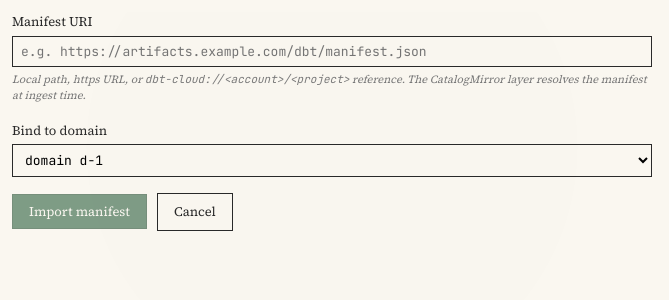
Test: DbtManifestImportForm › shows the inline error and stays mounted on action failure
The image size is (669, 300).
In the field with test id "dbt-manifest-uri": (332, 51) x1=12 y1=36 x2=652 y2=66, type "/tmp/manifest.json"
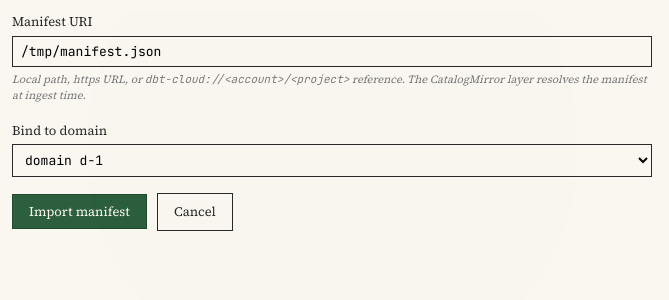
Click the button with test id "dbt-manifest-submit": (80, 212) x1=12 y1=194 x2=147 y2=229
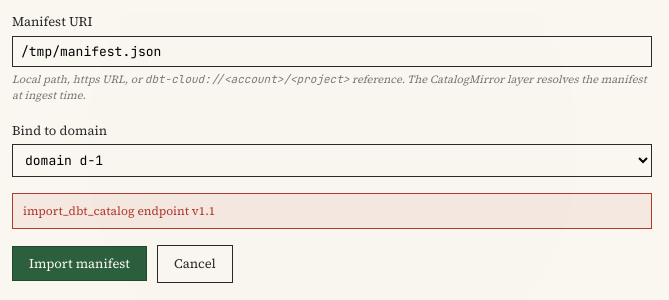
Now the message with test id "dbt-manifest-import-error" shows "endpoint v1.1", box x1=23 y1=203 x2=215 y2=219
